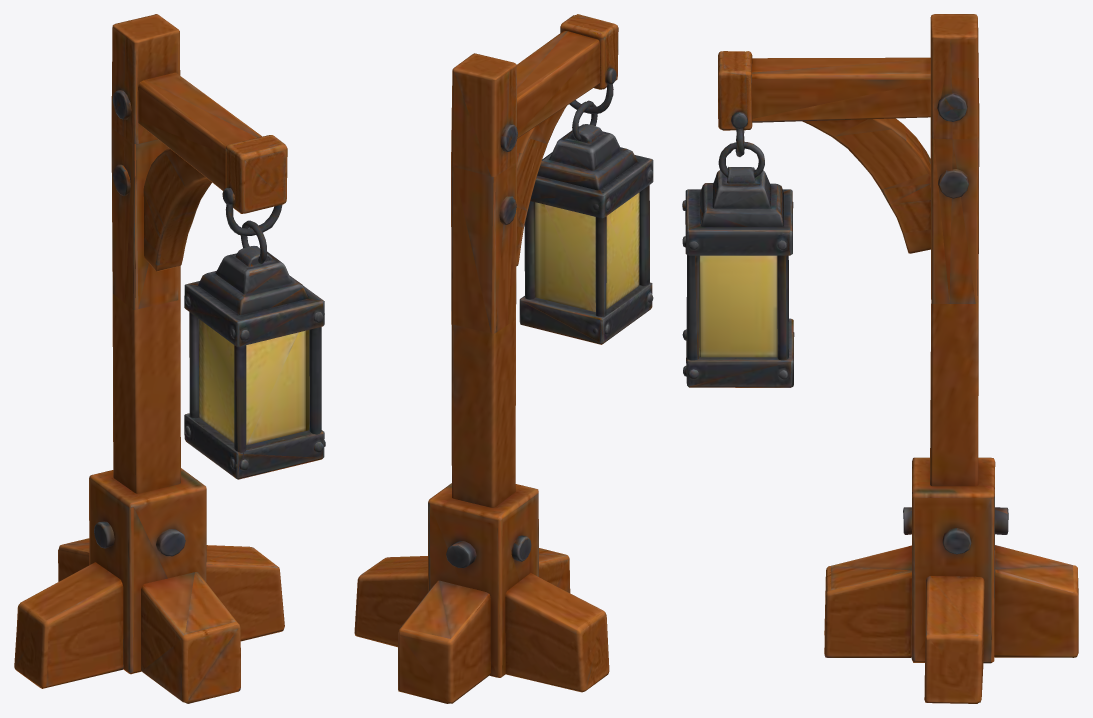
Rendered from lantern.glb.
3 views of the same model, side by side, from view 1: azimuth 30°, elevation 25°; view 2: azimuth 150°, elevation 25°; view 3: azimuth 270°, elevation 25° (orthographic). The views are drawn at different scales.
Size of the model in its own units: 0.4115 by 1 by 0.5807.
Materials: 1 (1 with a texture image).
